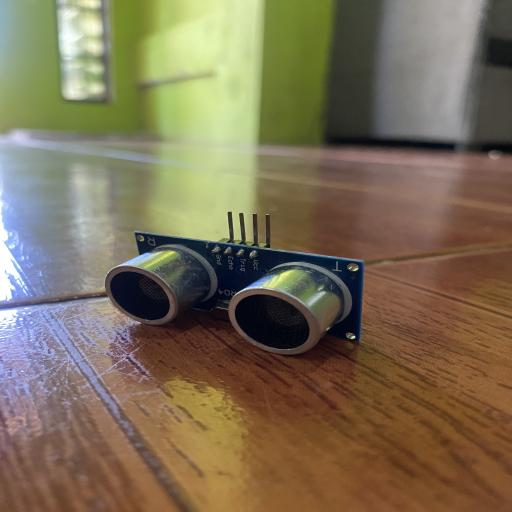Ultrasonic Sensor: (103, 210, 366, 356)
